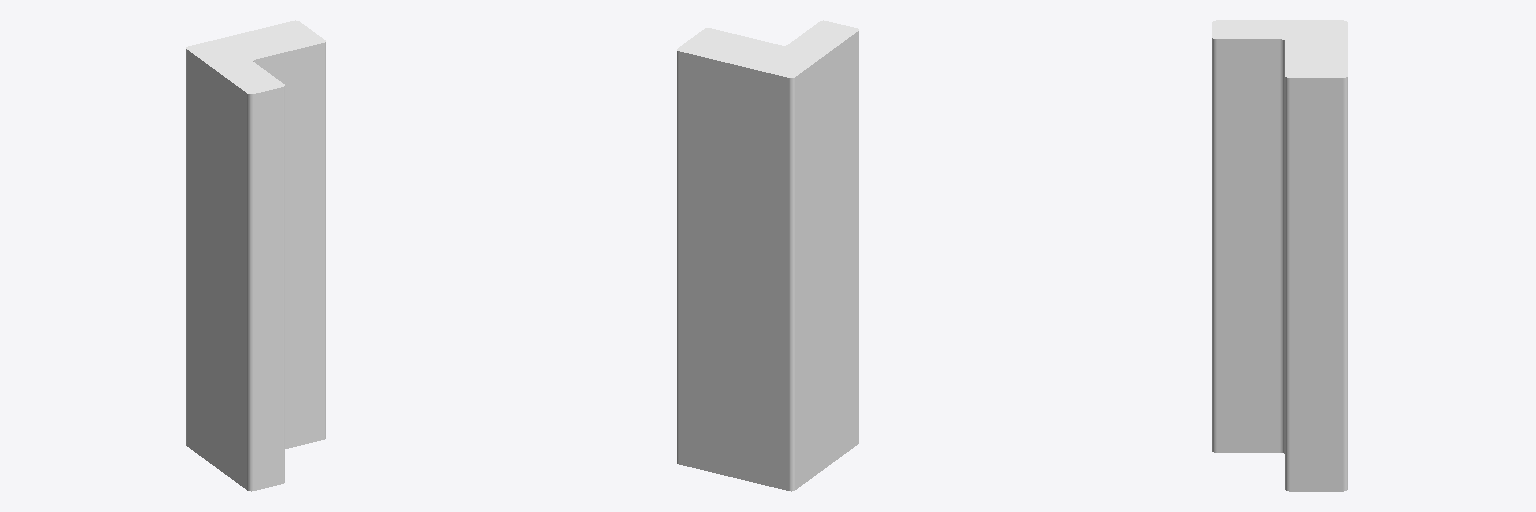
URDF robot description (kitchen_robot_v3):
<?xml version="1.0"?>
<robot name="kitchen_robot_v3">
  <link name="base_link"/>
  <link name="L_peg">
    <visual>
      <origin xyz="0.000000 0.000000 0.000000" rpy="0.000000 0.000000 0.000000"/>
      <geometry>
        <mesh filename="../L_peg.stl"/>
      </geometry>
      <material name="L_peg_mat">
        <color rgba="1.000 1.000 1.000 1.000"/>
      </material>
    </visual>
    <collision>
      <origin xyz="0.000000 0.000000 0.000000" rpy="0.000000 0.000000 0.000000"/>
      <geometry>
        <mesh filename="../L_peg.stl"/>
      </geometry>
    </collision>
  </link>
  <joint name="joint_L_peg" type="revolute">
    <parent link="base_link"/>
    <child link="L_peg"/>
    <origin xyz="0.000000 0.000000 0.000000" rpy="0.000000 -0.000000 0.000000"/>
    <axis xyz="1.000000 0.000000 0.000000"/>
    <limit lower="-3.141593" upper="3.141593" effort="0.000000" velocity="0.000000"/>
  </joint>
</robot>

--- Facts derived from the render (not from the file) ---
The picture shows the robot from 3 angles, left to right: view 1: azimuth 30°, elevation 25°; view 2: azimuth 150°, elevation 25°; view 3: azimuth 270°, elevation 25°; orthographic projection.
Model kitchen_robot_v3 with 2 links and 1 joints (1 revolute), rooted at base_link, posed all joints at 0.
Links seen in each view (by area): view 1: L_peg; view 2: L_peg; view 3: L_peg.
Boxes of the visible links, left/top/right/bottom form: L_peg: left=186, top=20, right=325, bottom=491; L_peg: left=677, top=20, right=858, bottom=491; L_peg: left=1212, top=20, right=1347, bottom=491.
Bounding box of the posed robot: 0.0149 × 0.0149 × 0.05 m (x, y, z).
1 mesh visuals loaded from 1 distinct referenced files (1 ASCII STL).
